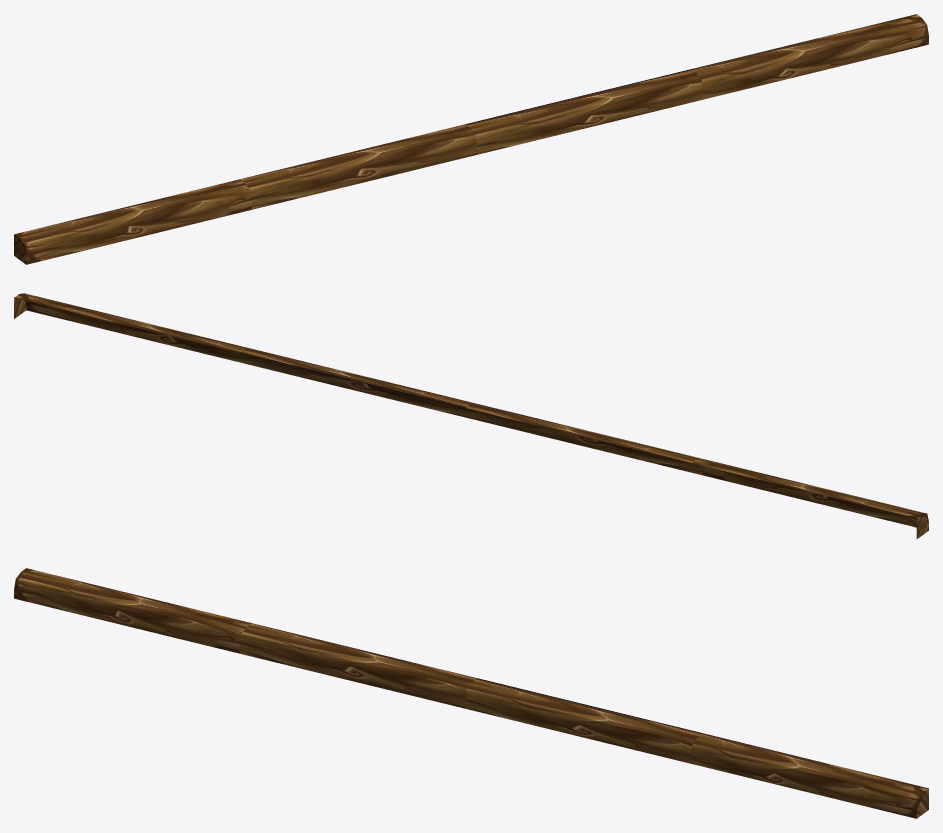
File: zocalo.fbx
3 views of the same model, one above another, from view 1: azimuth 30°, elevation 25°; view 2: azimuth 150°, elevation 25°; view 3: azimuth 330°, elevation 25° (orthographic).
Parts seen in each view (by area): view 1: Box003; view 2: Box003; view 3: Box003.
Boxes of the visible parts, x1,y1,x2,y2 form: Box003: (14,14,928,264); Box003: (14,293,928,539); Box003: (14,568,928,818).
Size of the model in its own units: 30 by 0.682 by 0.7097.
